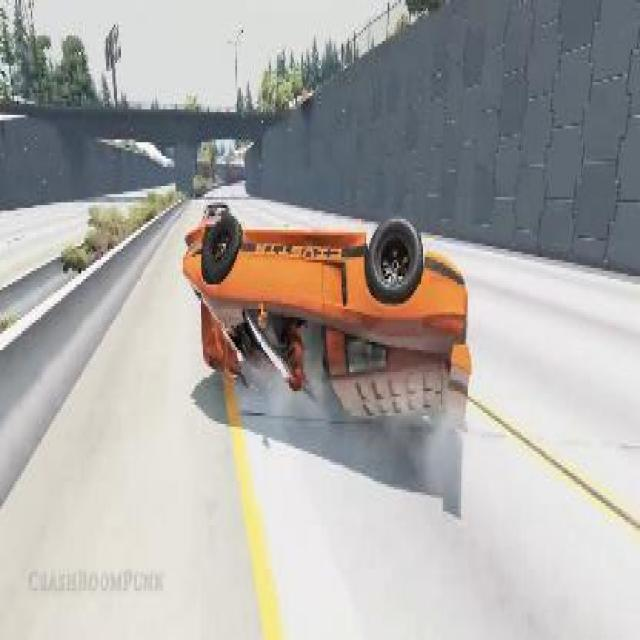accident: (176, 188, 482, 468)
